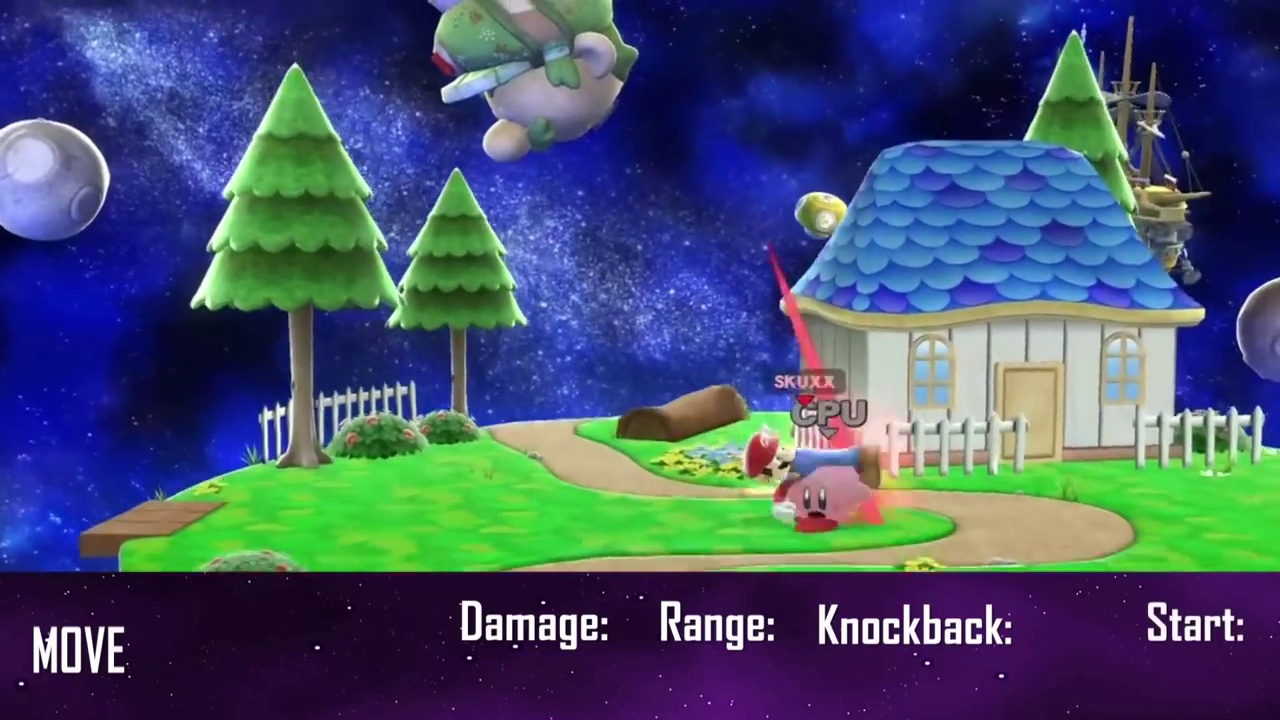Mario: (744, 425, 881, 494)
